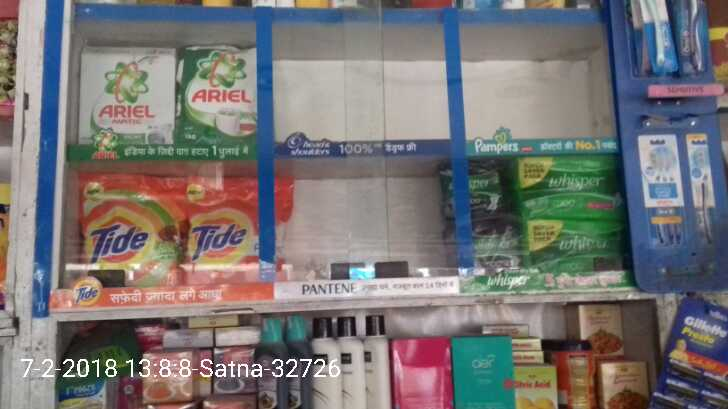home: (76, 177, 179, 284), (77, 43, 175, 149), (184, 178, 274, 289), (174, 46, 257, 150)
pharmacy: (516, 153, 625, 220), (519, 211, 631, 269), (435, 165, 511, 218)
